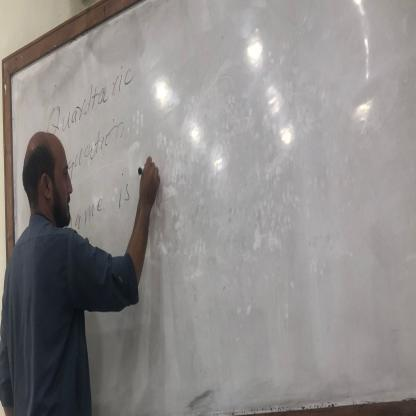Handwritten text: (27, 48, 157, 151), (58, 159, 155, 247), (47, 109, 146, 186)
Lecturer: (6, 125, 118, 415)
